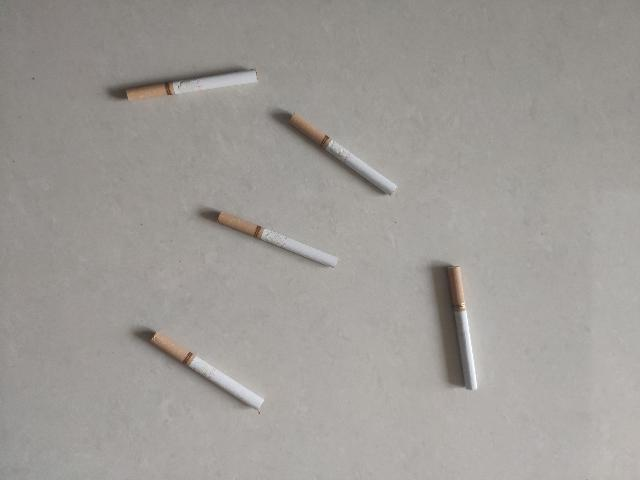Smoking: (290, 112, 400, 196), (152, 332, 266, 410), (217, 212, 339, 268), (126, 68, 260, 102), (448, 266, 479, 392)
